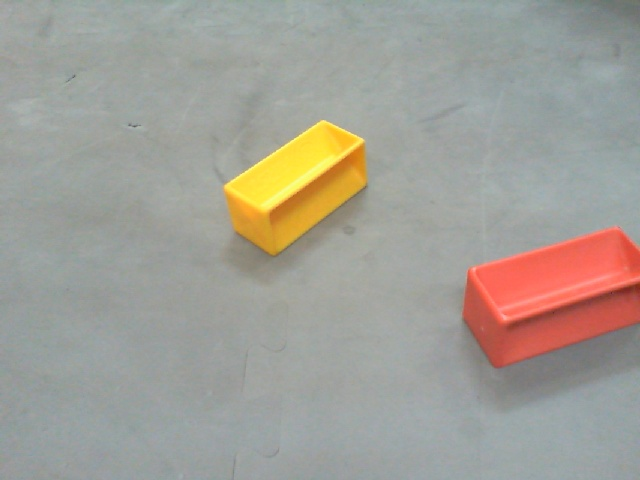RedSample: (463, 225, 638, 366)
YellowSample: (221, 119, 367, 256)
